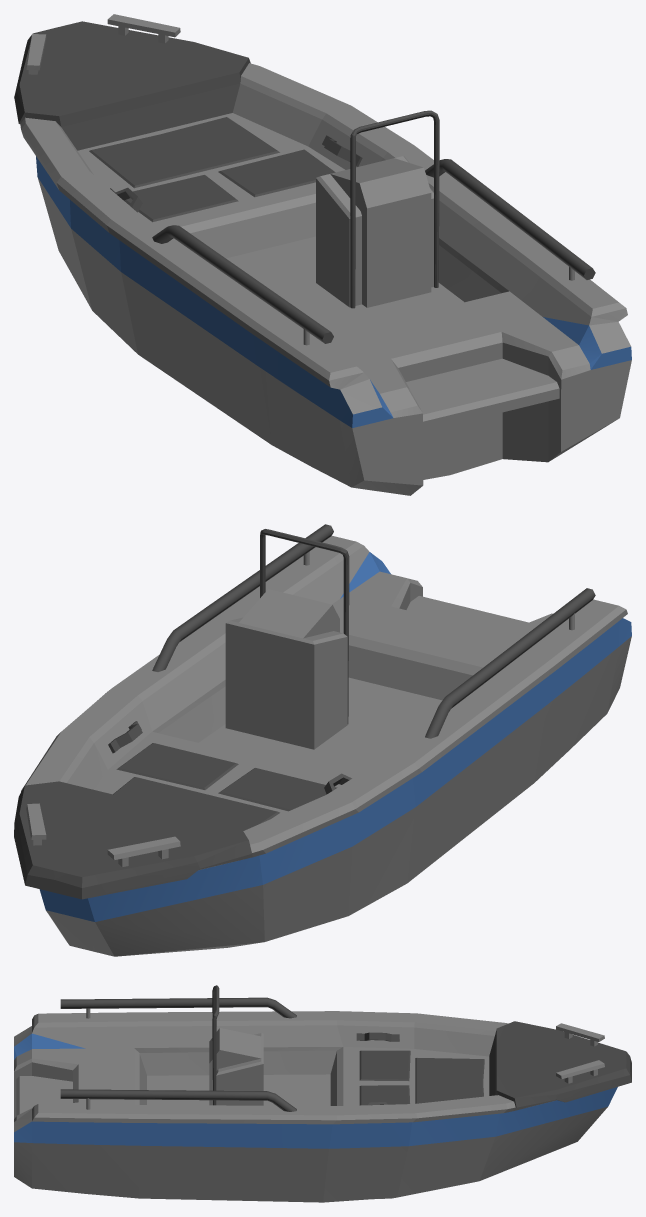
The model's file is MidSizeBoat.FBX.
3 views of the same model, one above another, from view 1: azimuth 30°, elevation 25°; view 2: azimuth 150°, elevation 25°; view 3: azimuth 270°, elevation 25° (orthographic). The views are drawn at different scales.
Parts seen in each view (by area): view 1: fisher_8; view 2: fisher_8; view 3: fisher_8.
Boxes of the visible parts, x1=… form: fisher_8: x1=14, y1=14, x2=631, y2=495; fisher_8: x1=14, y1=524, x2=631, y2=956; fisher_8: x1=14, y1=985, x2=631, y2=1202.
Size of the model in its own units: 93.15 by 82.07 by 226.
